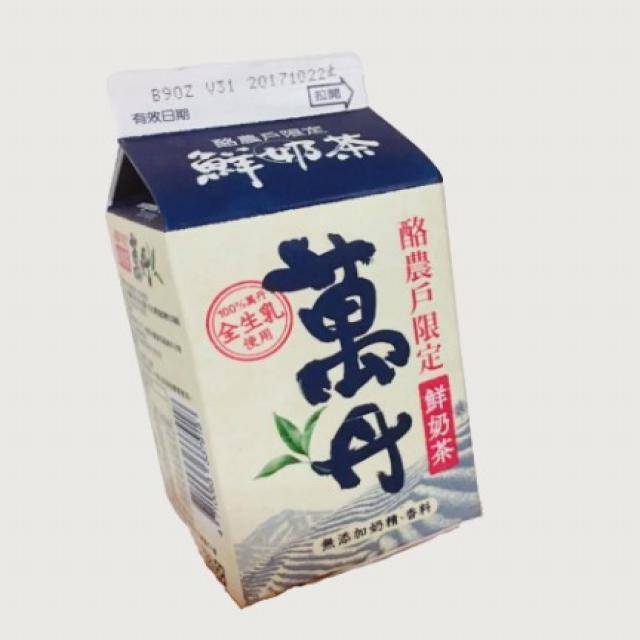non_white_jug: (83, 39, 510, 629)
